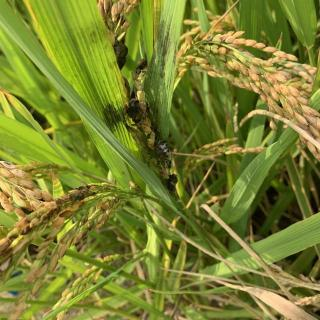Gosong-Palsu: (125, 97, 149, 124), (112, 36, 130, 71), (154, 138, 174, 163), (165, 173, 180, 192)
